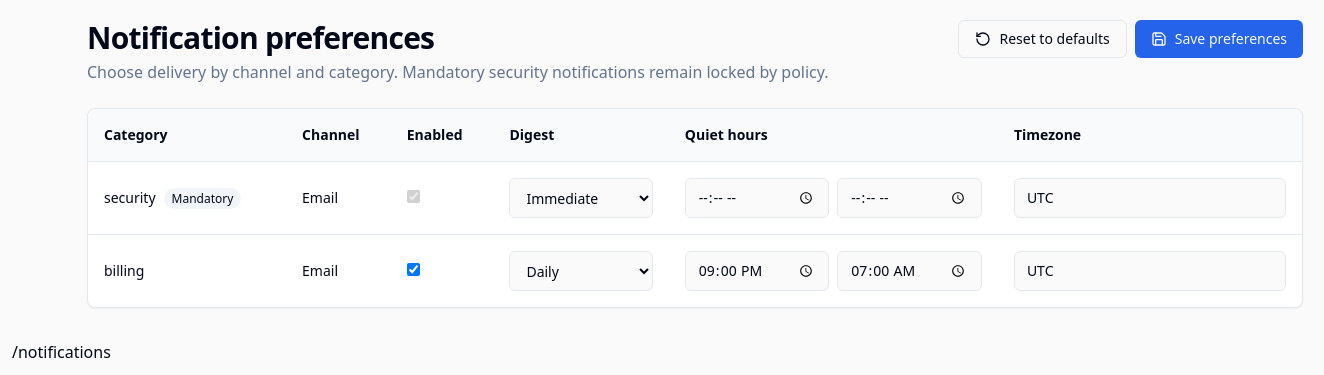
Test: Notification preference and delivery pages › saves editable preferences, keeps mandatory security locked, and resets from server defaults
expect the heading "Notification preferences" is shown: met, box left=87, top=17, right=434, bottom=58
expect the checkbox named "Enable security email" is disabled: met, box left=407, top=190, right=420, bottom=203
Click the checkbox named "Enable billing email".
click(413, 270)  # box left=407, top=263, right=420, bottom=276
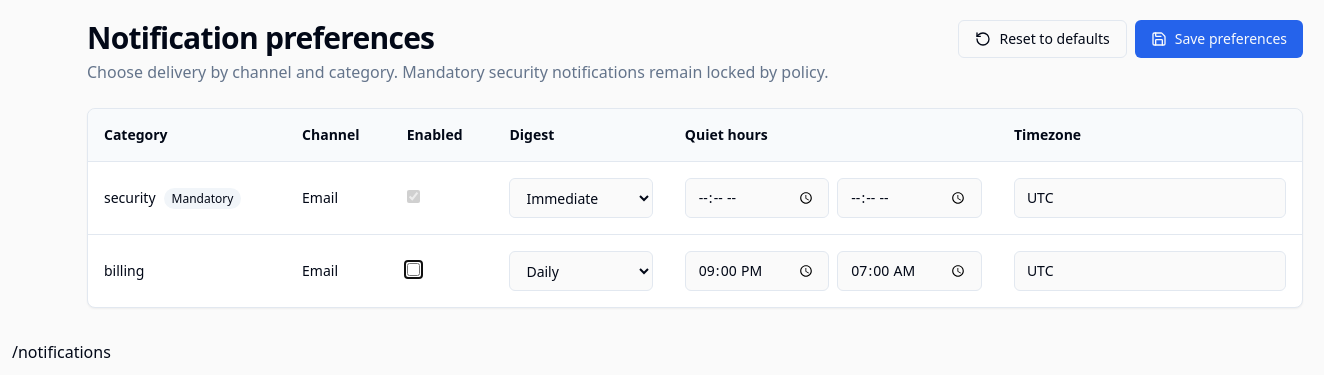
Select "Weekly" in the dropdown named "Digest for billing email" at (581, 271), box left=509, top=251, right=653, bottom=291
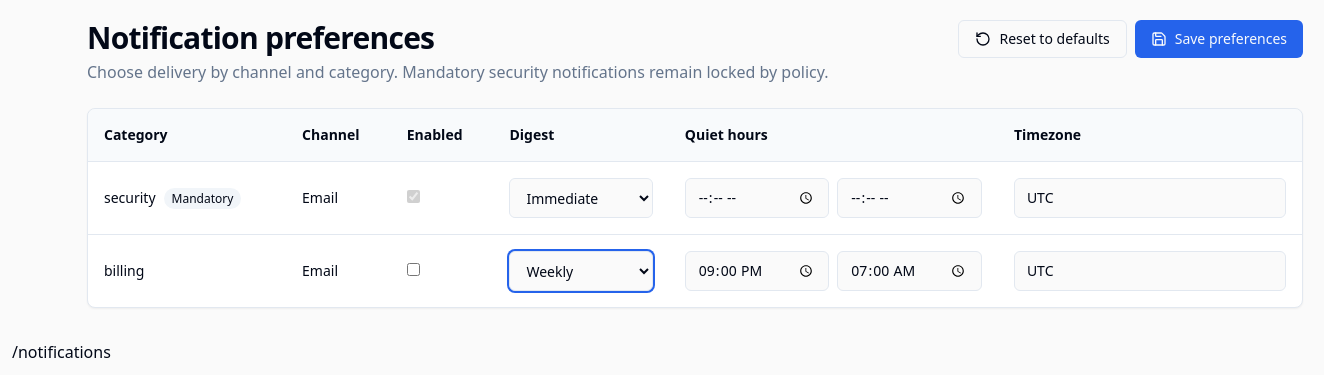
Clear the time field named "Quiet start" in the row of "billing" at (757, 271), box left=685, top=251, right=829, bottom=291
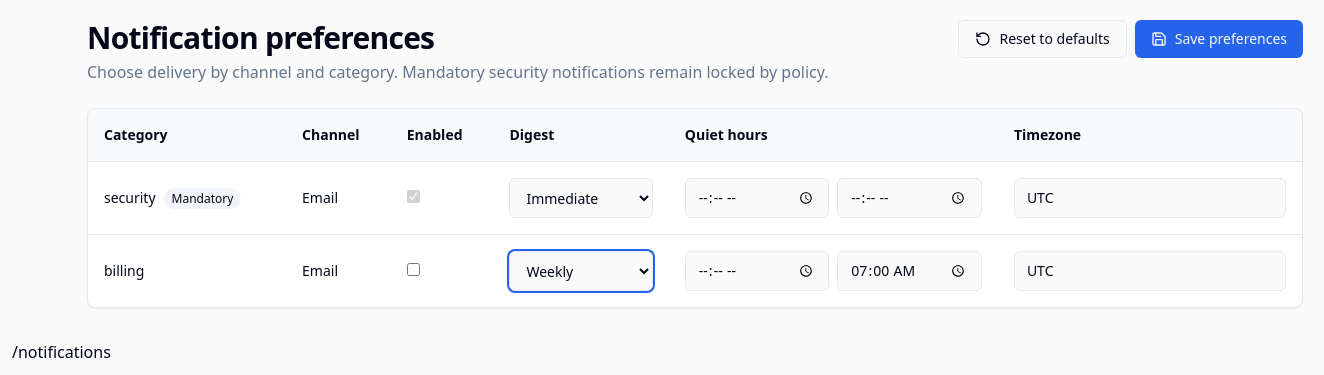
Replace the text in the field named "Timezone" in the row of "billing" with "America/New_York" at (1150, 271), box left=1014, top=251, right=1286, bottom=291
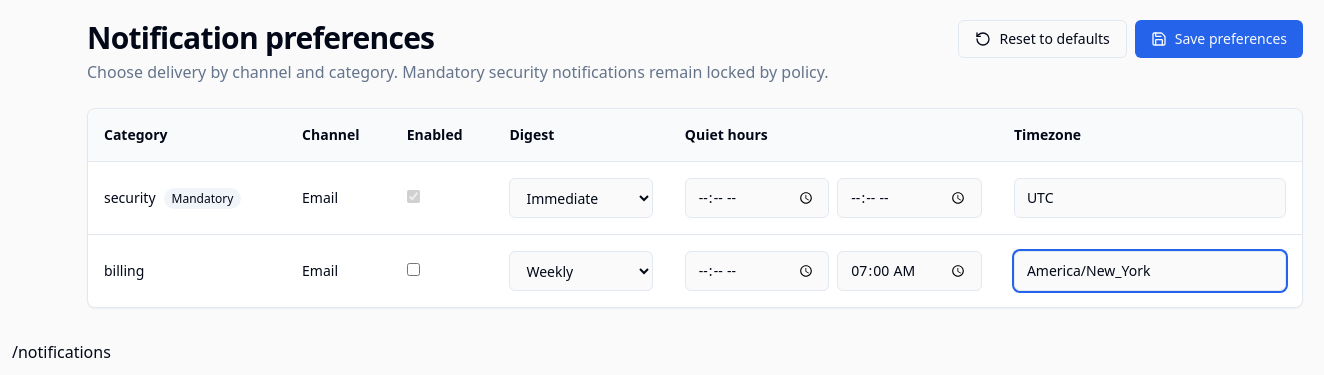
Click the button "Save preferences".
click(1219, 39)  # box left=1135, top=20, right=1303, bottom=58
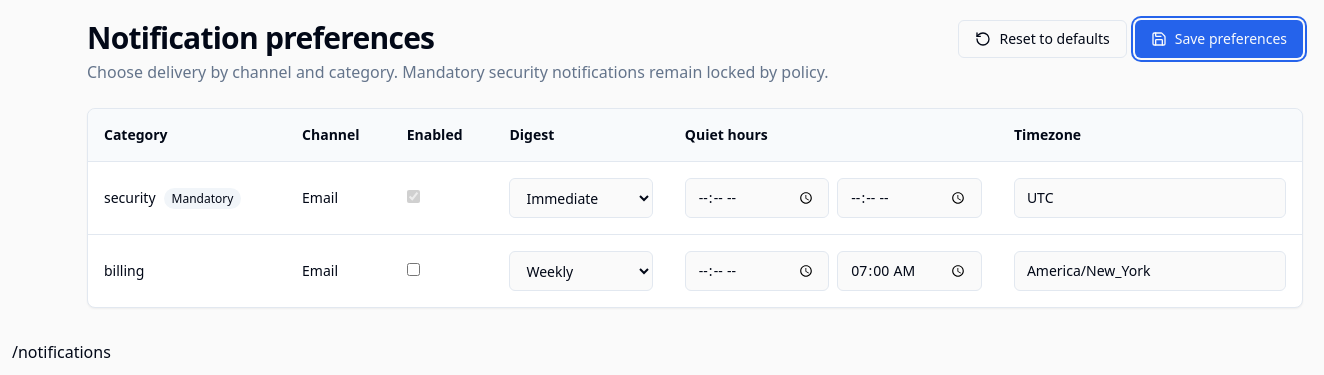
Click the button "Reset to defaults".
click(1043, 39)  # box left=958, top=20, right=1127, bottom=58
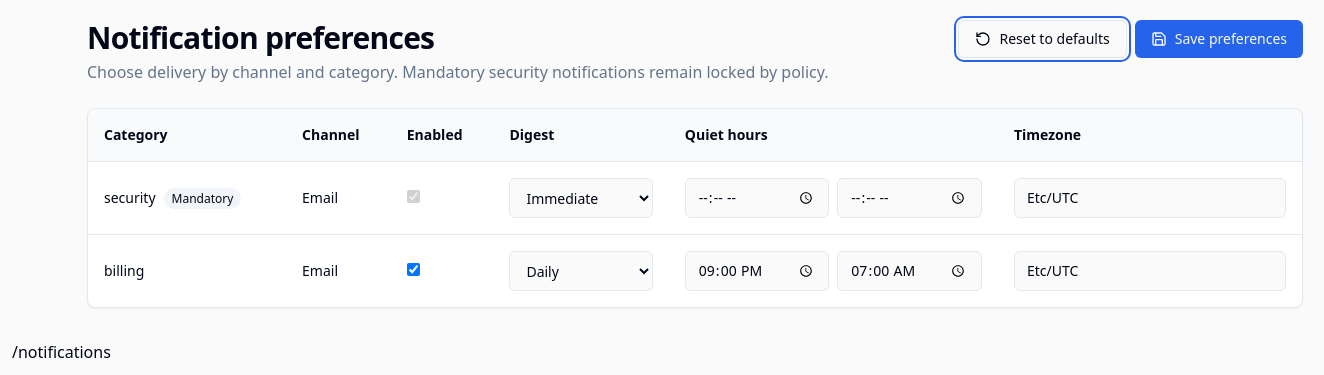
expect the field named "Timezone" in the row of "billing" holds "Etc/UTC": met, box left=1014, top=251, right=1286, bottom=291
